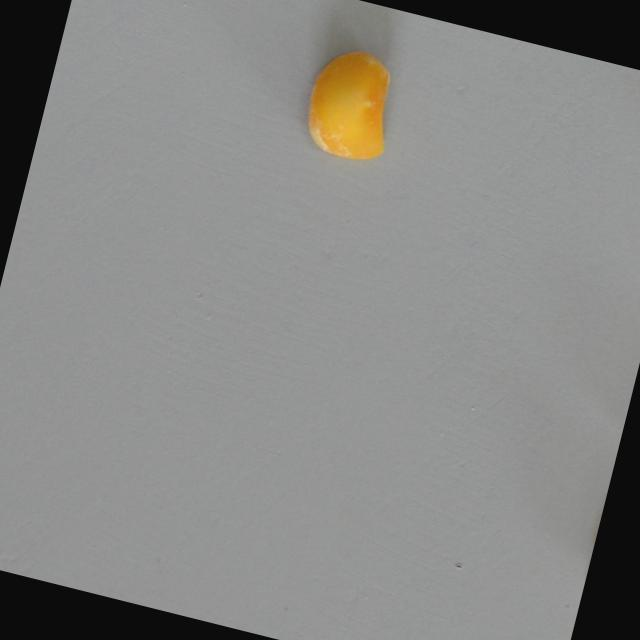dañado: (291, 34, 417, 178)
